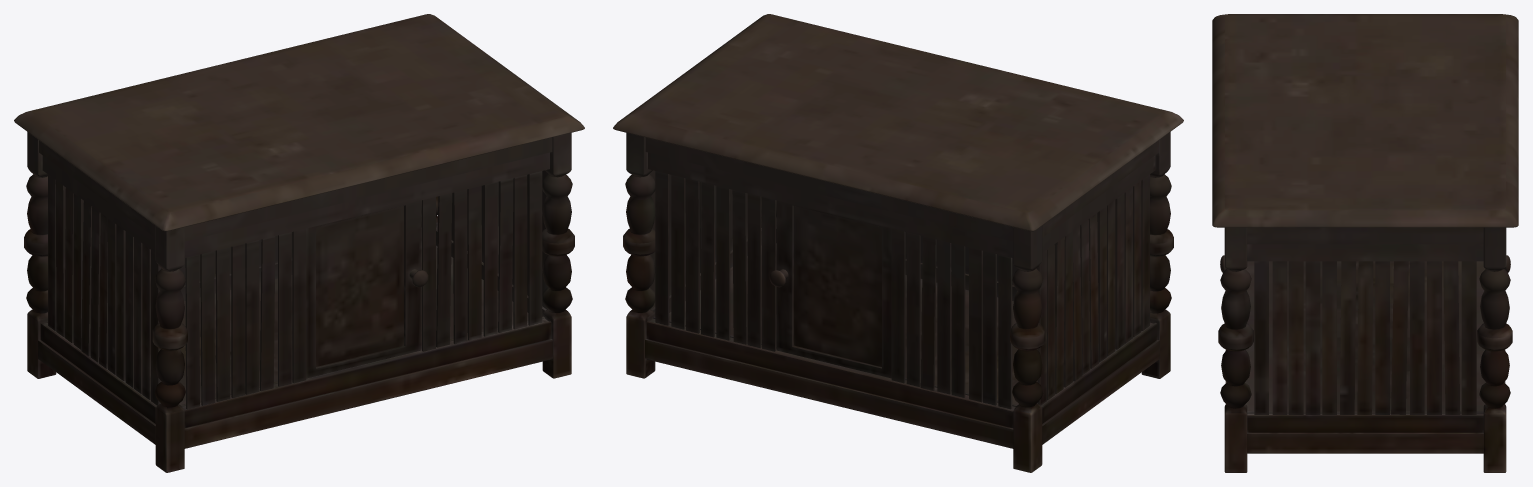
File: gallinera-table.glb
The picture shows the model from 3 angles, left to right: view 1: azimuth 30°, elevation 25°; view 2: azimuth 150°, elevation 25°; view 3: azimuth 270°, elevation 25°; orthographic projection.
Visible parts, largest first — view 1: gallinera_table; view 2: gallinera_table; view 3: gallinera_table.
Part boxes in pixels (x1,y1,x2,y2): gallinera_table: [14, 14, 584, 472]; gallinera_table: [613, 14, 1183, 472]; gallinera_table: [1212, 14, 1518, 472].
Bounding box in the file's own units: 0.8301 × 0.4878 × 0.5183.
1 material, 1 textured.
